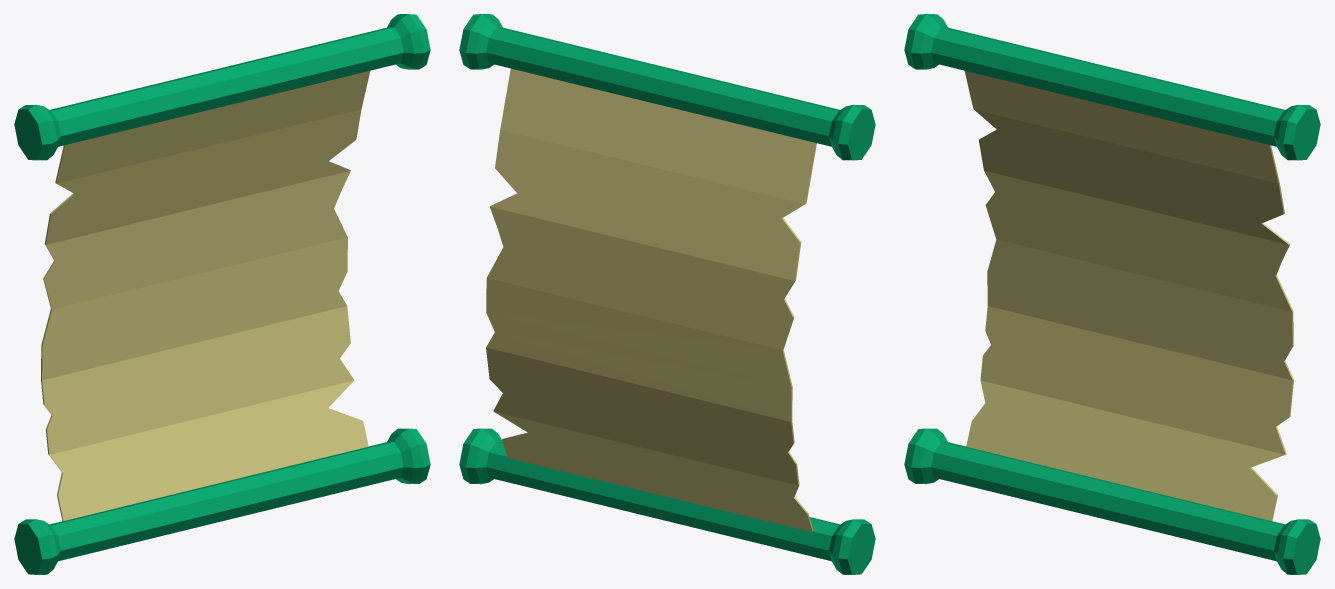
File: scroll.glb
The picture shows the model from 3 angles, left to right: view 1: azimuth 30°, elevation 25°; view 2: azimuth 150°, elevation 25°; view 3: azimuth 330°, elevation 25°; orthographic projection.
Visible parts, largest first — view 1: Parchament_open_Cube.008; view 2: Parchament_open_Cube.008; view 3: Parchament_open_Cube.008.
Boxes of the visible parts, x1,y1,x2,y2 form: Parchament_open_Cube.008: [14, 14, 430, 574]; Parchament_open_Cube.008: [459, 14, 875, 574]; Parchament_open_Cube.008: [904, 14, 1320, 574].
Size of the model in its own units: 17.33 by 20.04 by 3.42.
